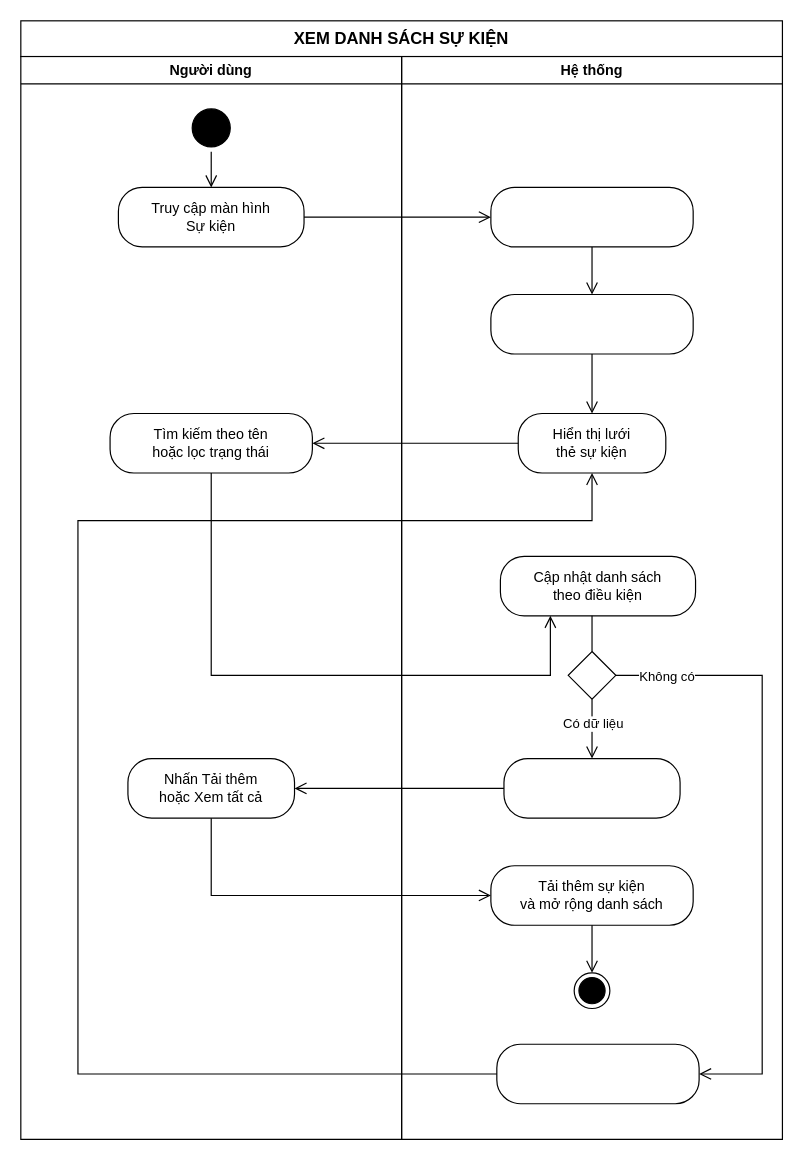
Image size: 803x1160. Some labels were removed from this diagram. Here are the shapes that lost their labels. From the top down, the box of each, then its label:
(490, 186, 693, 247): Tải sự kiện không ở trạng thái nháp
(490, 293, 693, 354): Hiển thị sự kiện nổi bật sắp diễn ra gần nhất
(503, 757, 680, 818): Hiển thị các thẻ sự kiện phù hợp
(496, 1043, 699, 1104): Hiển thị Không tìm thấy sự kiện nào
